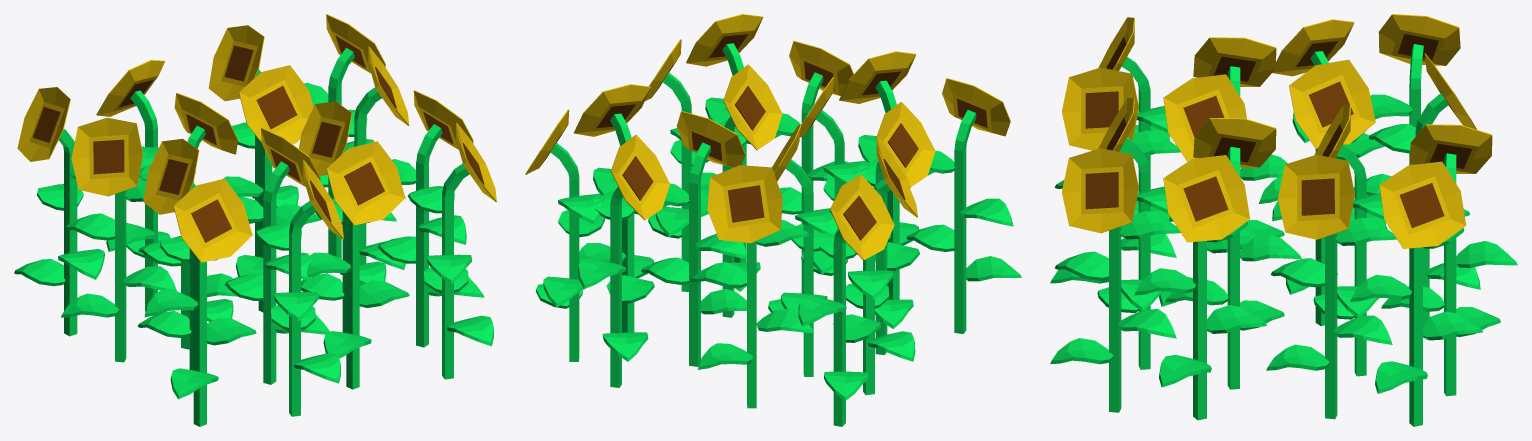
File: SunflowerPatch.fbx
3 renders of one model, left to right at view 1: azimuth 30°, elevation 25°; view 2: azimuth 150°, elevation 25°; view 3: azimuth 270°, elevation 25°, orthographic. The views are drawn at different scales.
Parts seen in each view (by area): view 1: Cube.003; view 2: Cube.003; view 3: Cube.003.
Part boxes in pixels (x1,y1,x2,y2): Cube.003: [14, 14, 496, 426]; Cube.003: [525, 14, 1021, 426]; Cube.003: [1050, 14, 1517, 426].
Bounding box in the file's own units: 240 × 156 × 250.
